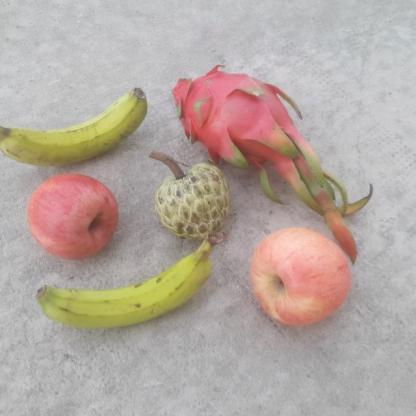annona: (156, 161, 229, 240)
apple: (251, 228, 352, 324), (26, 170, 118, 262)
banana: (36, 242, 218, 325), (0, 80, 150, 167)
pitaya: (177, 66, 292, 162)
